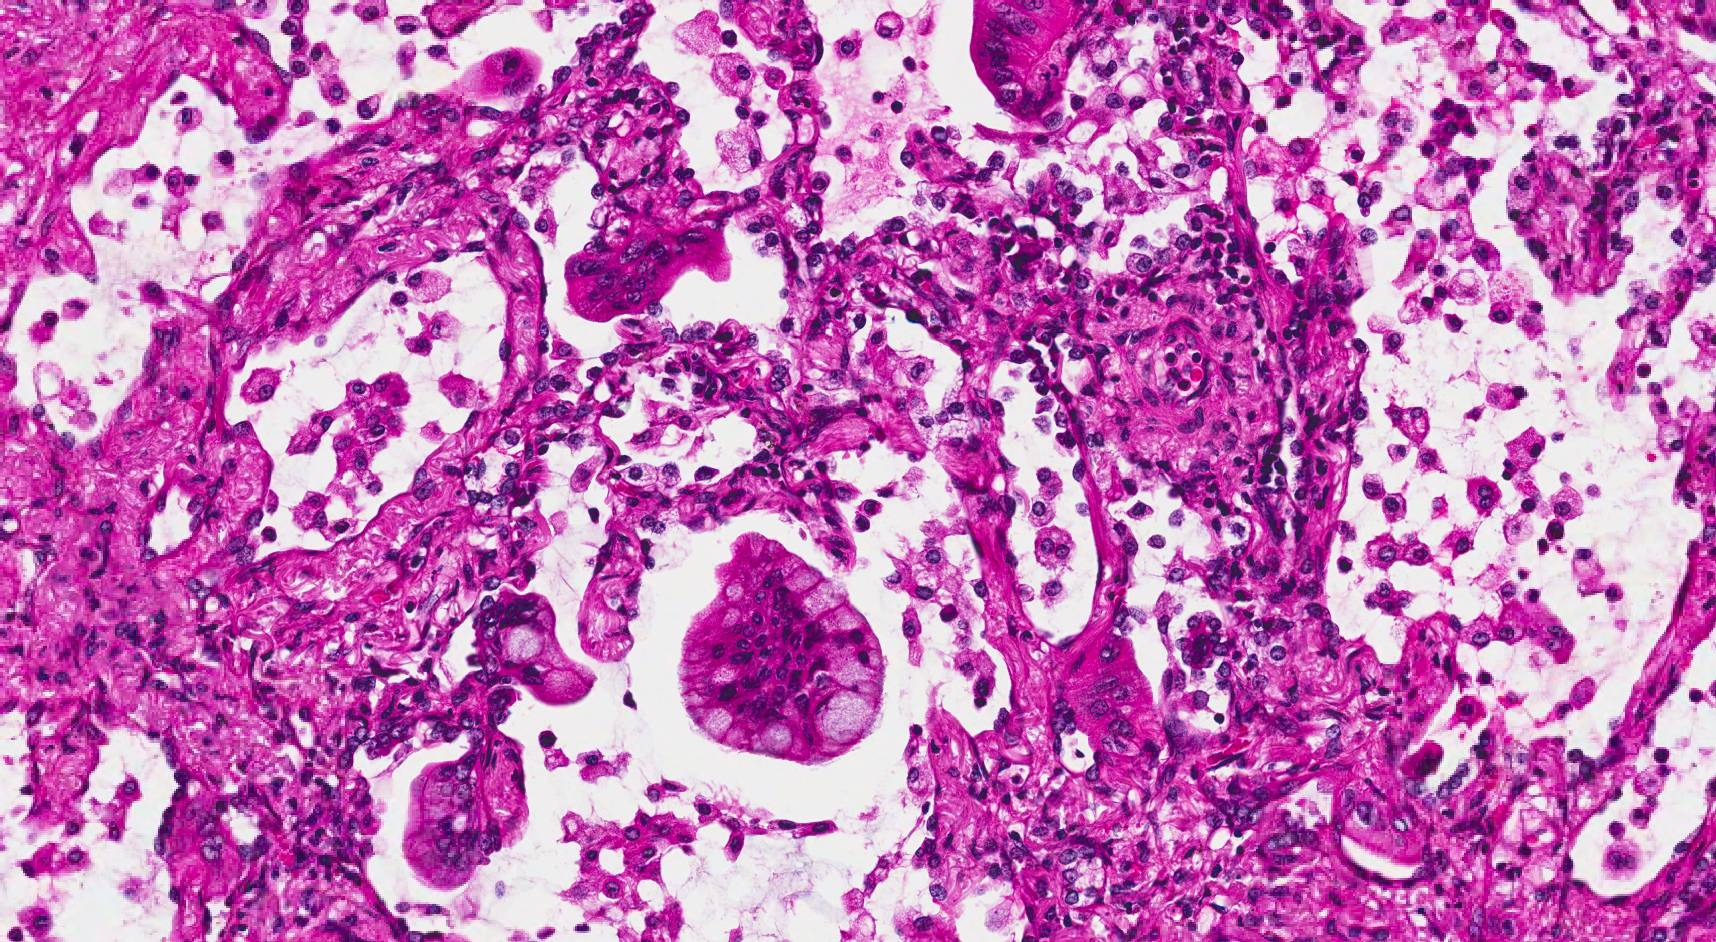stas: (680, 535, 886, 767)
